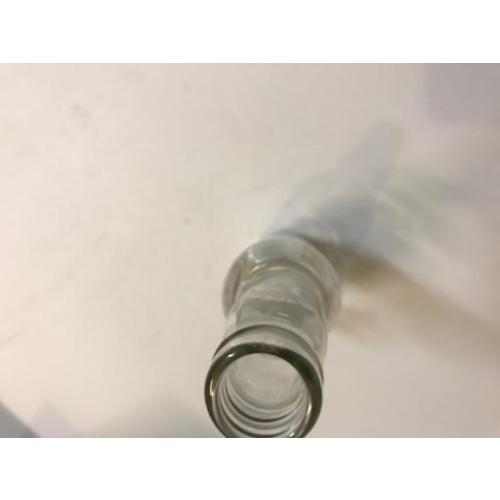glass: (207, 239, 339, 435)
